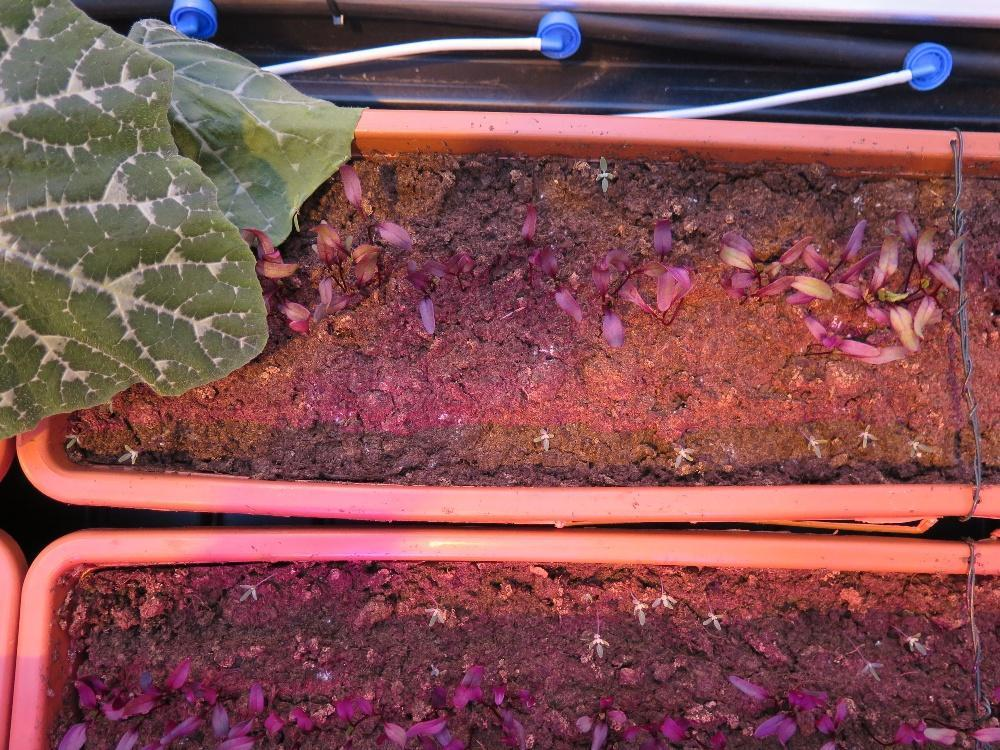weed: (593, 153, 612, 192), (904, 628, 927, 658), (856, 657, 884, 681), (585, 630, 609, 658), (531, 425, 555, 452), (855, 421, 877, 448), (805, 432, 828, 457), (113, 442, 137, 465), (671, 444, 694, 468), (906, 438, 933, 458), (699, 609, 723, 631), (630, 595, 647, 626), (423, 605, 445, 628), (649, 591, 676, 609), (236, 581, 257, 602)
